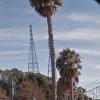Tree: (41, 34, 87, 94)
